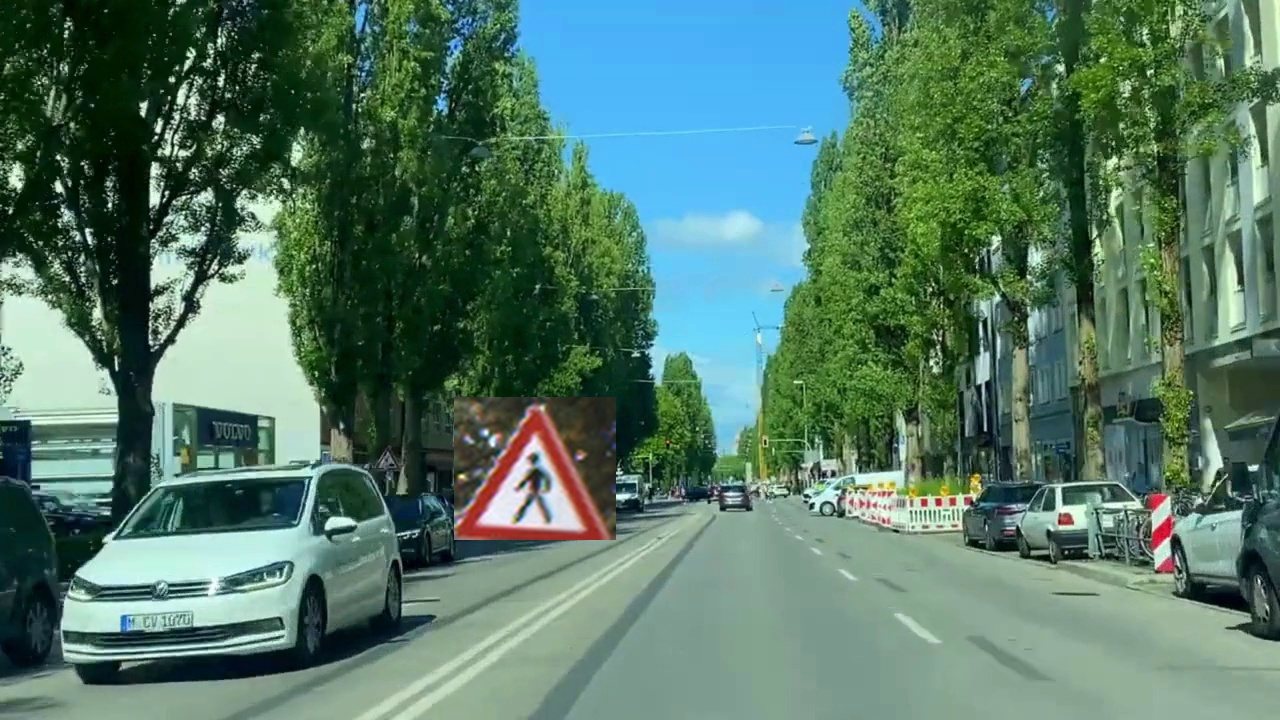Pedestrians: (454, 397, 616, 540)
